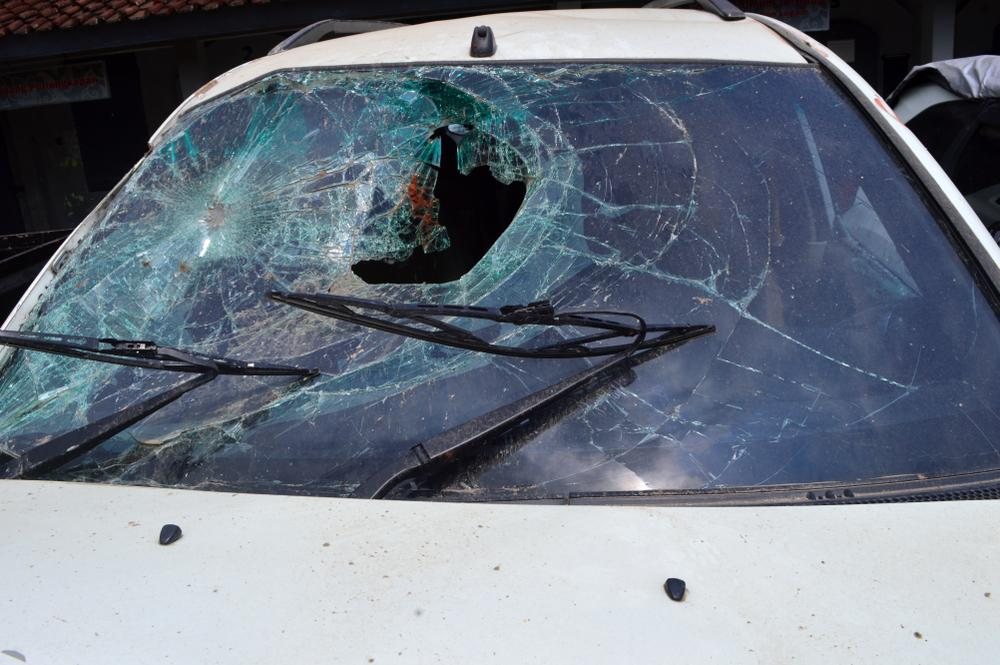glass shatter: (0, 62, 1000, 499)
